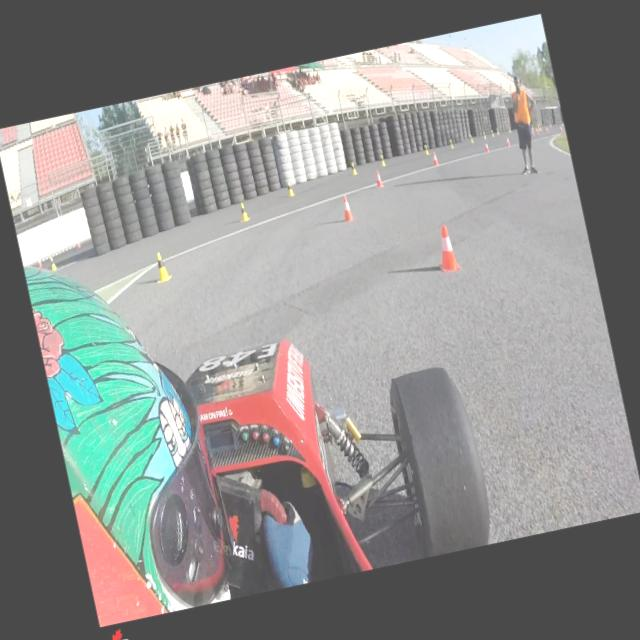orange_cone: (430, 222, 460, 273), (339, 194, 354, 222), (373, 168, 383, 188), (431, 151, 438, 165), (36, 255, 42, 268), (74, 237, 80, 248), (505, 136, 510, 146), (484, 140, 488, 152)
yellow_cone: (151, 250, 172, 282), (237, 201, 251, 222), (286, 180, 295, 197), (350, 160, 358, 176), (49, 256, 57, 270), (379, 153, 386, 166), (448, 138, 454, 149), (424, 143, 429, 155), (469, 134, 473, 144), (490, 128, 495, 136), (482, 130, 486, 138), (496, 128, 500, 134)
